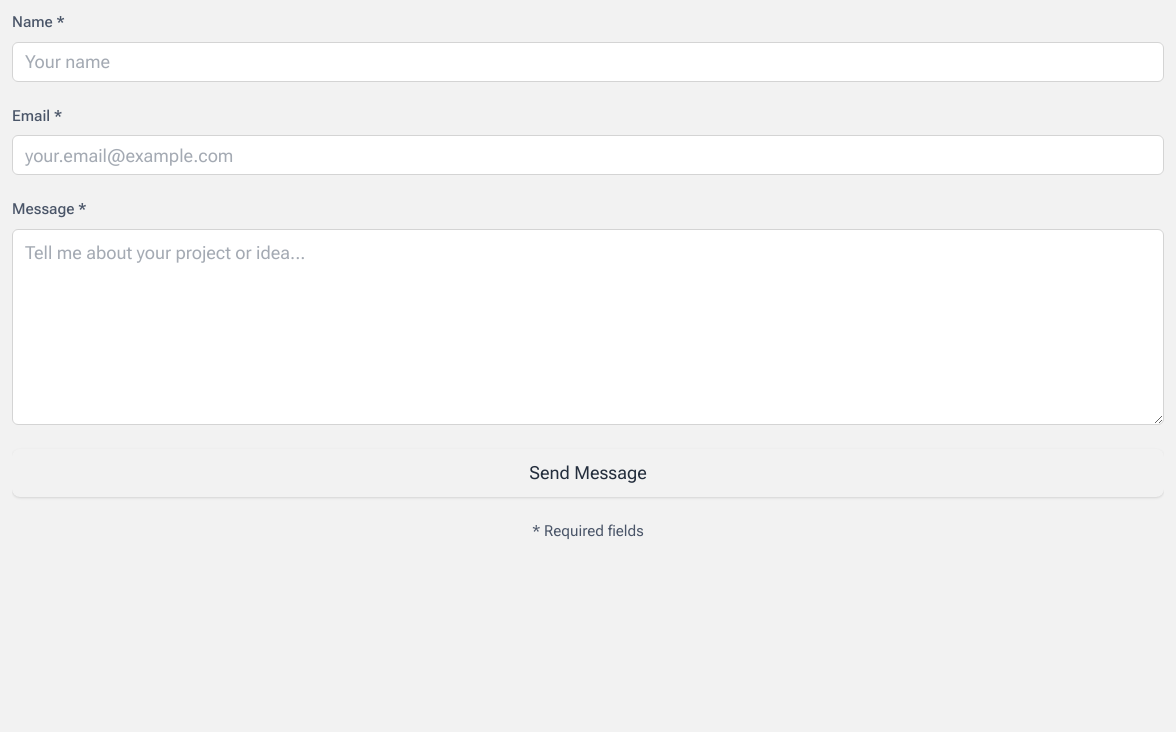
Scenario: ContactForm › validates email format
Type "invalid-email" into the field with placeholder "your.email@example.com" at [588, 155], box [12,135,1164,175]
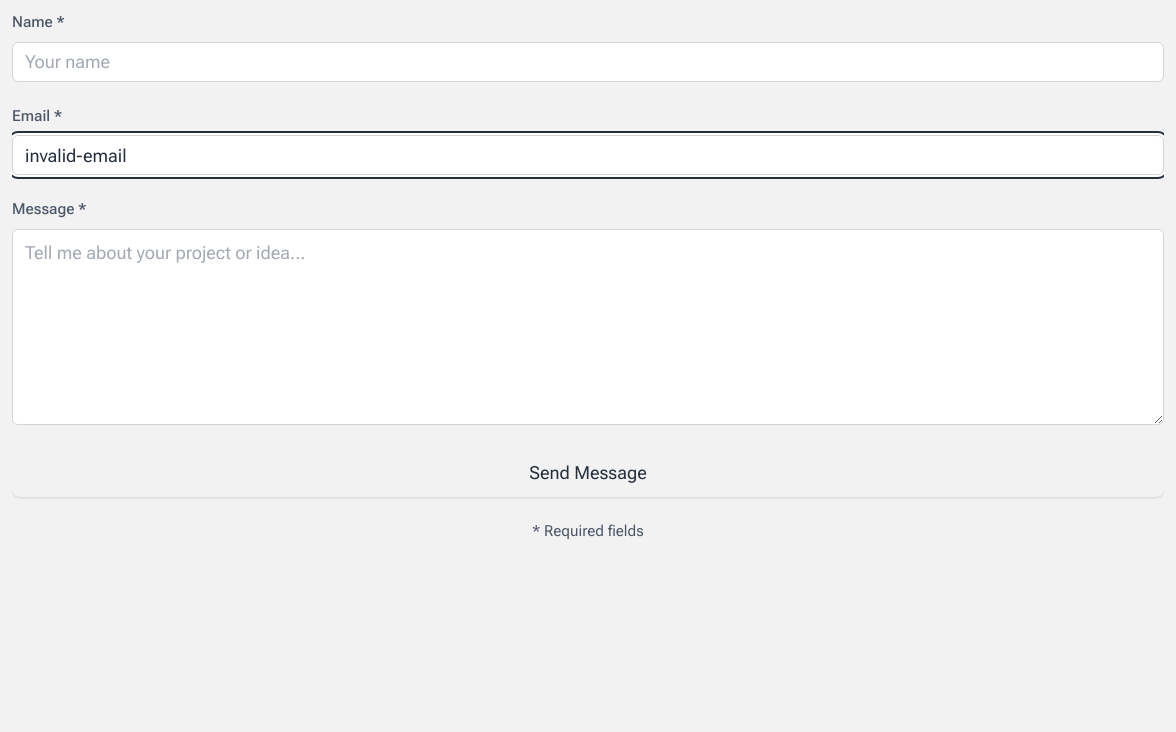
Click the button "Send Message" at [588, 473], box [12,449,1164,497]
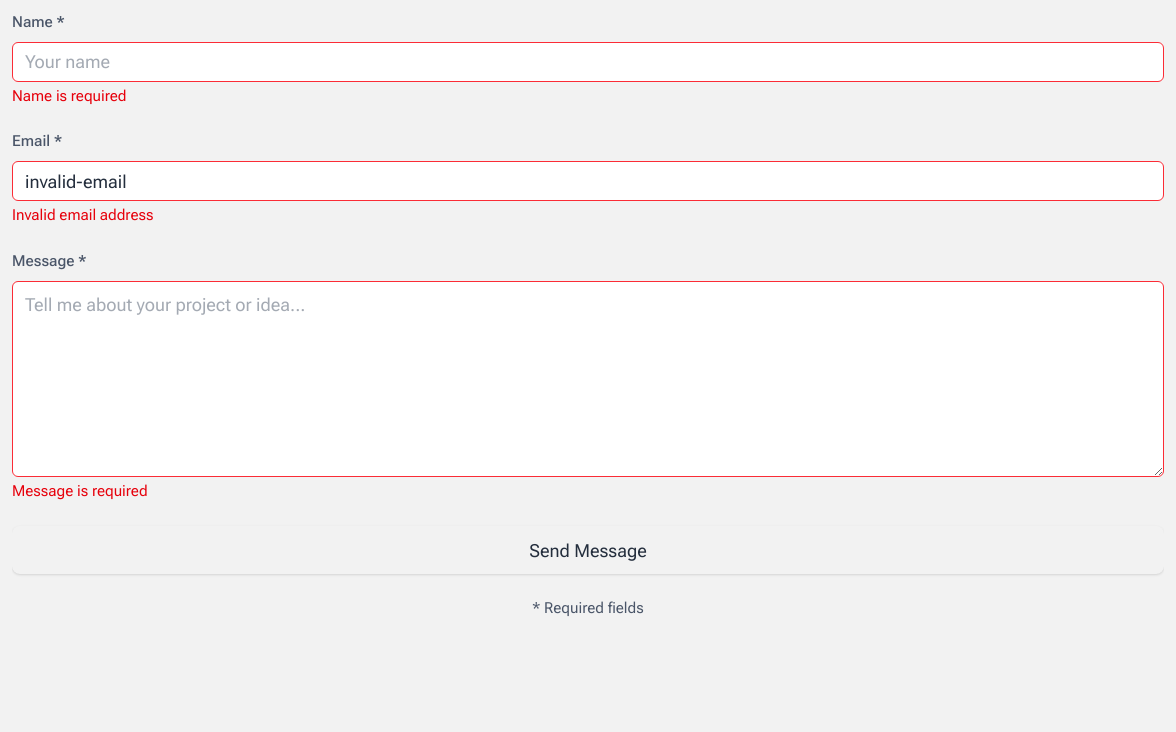
Now the text "Invalid email address" is shown, box [12,206,153,224]
